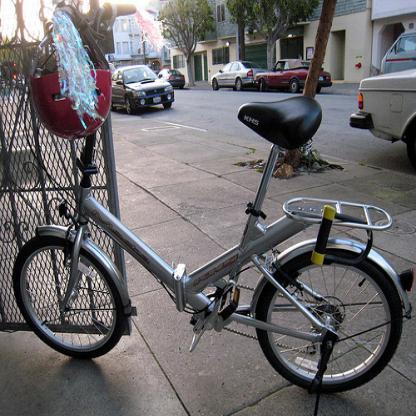bicycle: (3, 0, 414, 392)
car: (349, 60, 415, 153), (107, 63, 174, 116), (253, 57, 334, 100), (211, 58, 267, 92), (378, 27, 415, 78), (158, 65, 186, 88)
